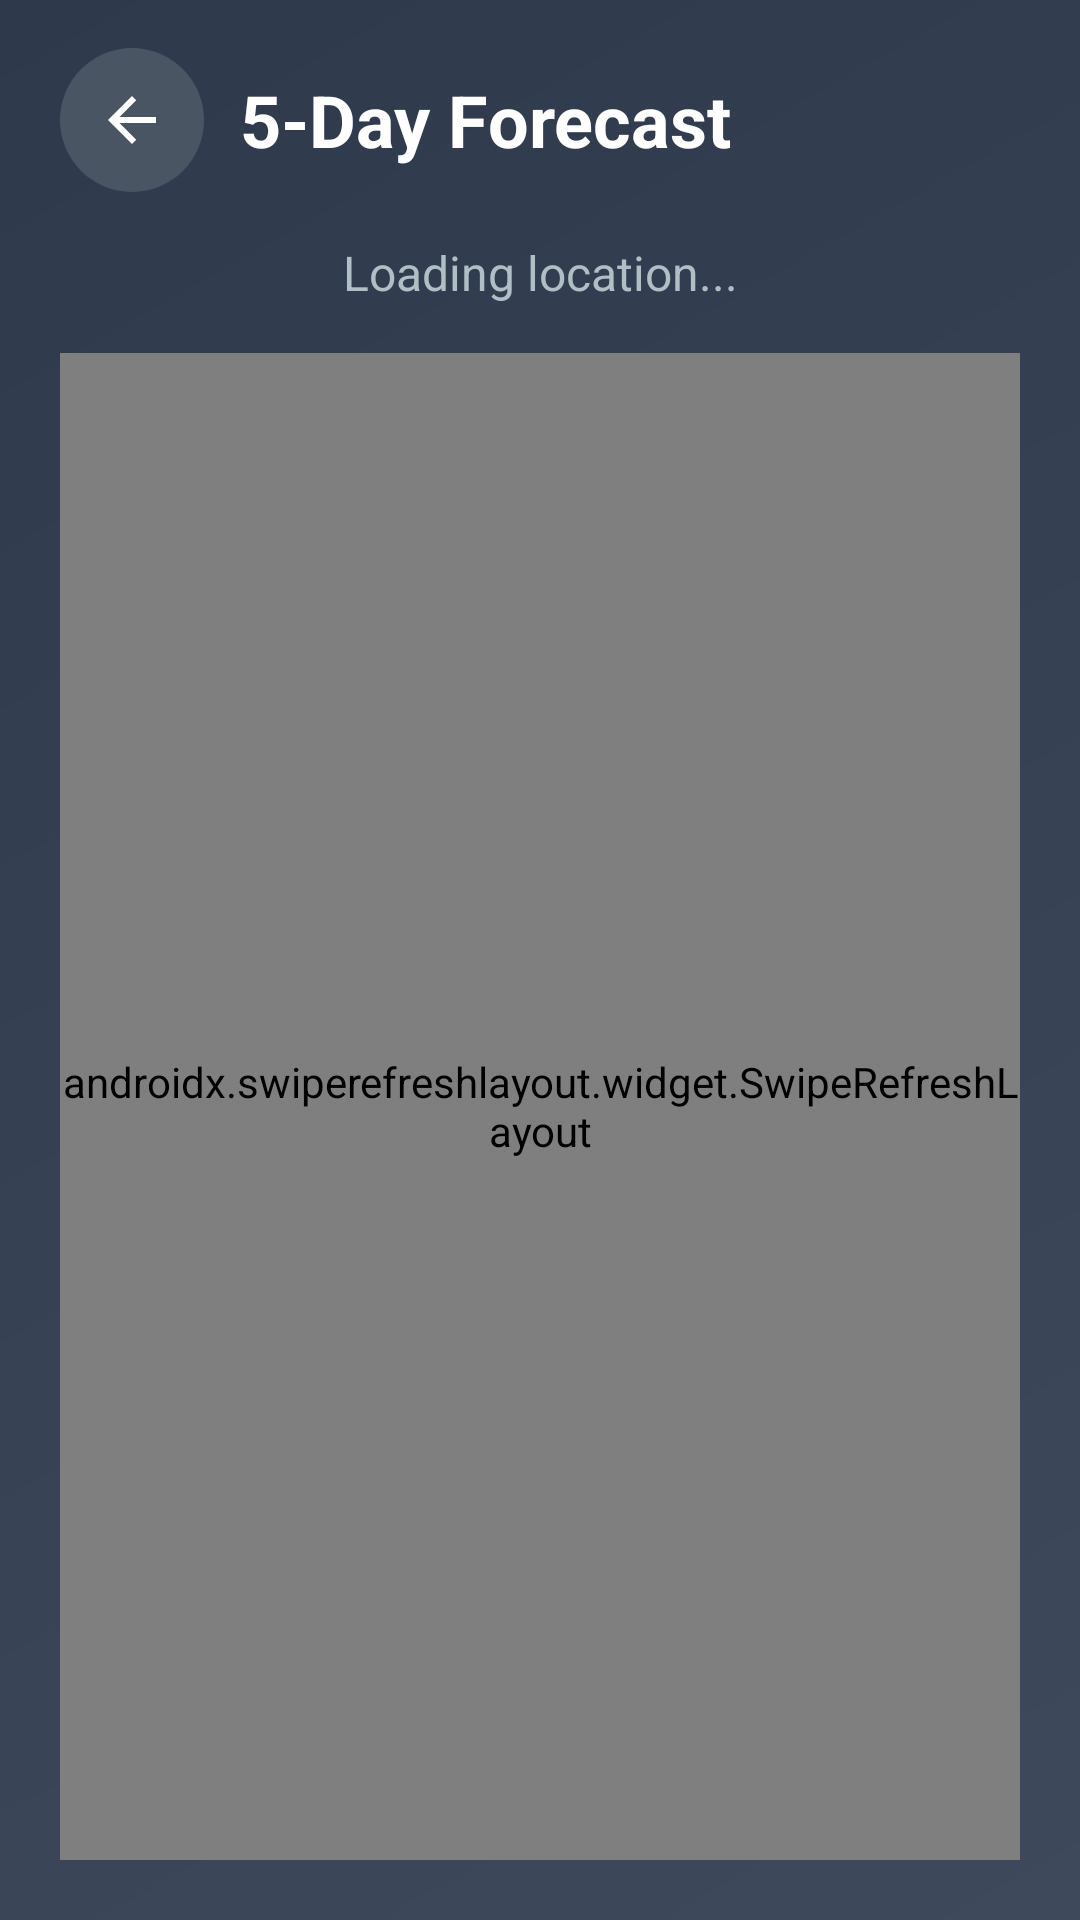

Point at icon controls on the screen. Image size 1080×1920, points as [x,y].
back: [132,120]
